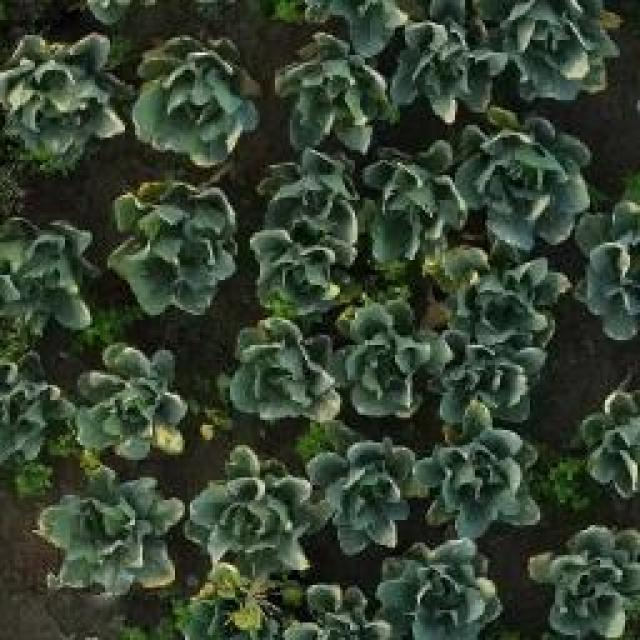cabbage: (30, 466, 184, 596), (457, 119, 590, 244), (114, 185, 238, 312), (420, 407, 542, 529), (130, 45, 255, 158), (73, 343, 192, 460), (193, 456, 310, 573), (303, 435, 422, 548), (527, 522, 640, 639), (5, 38, 121, 151), (224, 319, 344, 424), (335, 302, 446, 412), (452, 251, 563, 359), (496, 0, 614, 100), (0, 222, 96, 340), (275, 38, 381, 142), (390, 541, 498, 640), (390, 18, 496, 112), (248, 222, 346, 320), (256, 144, 365, 231), (368, 156, 458, 256), (580, 195, 640, 337), (440, 349, 544, 423), (280, 577, 388, 640), (0, 356, 67, 457), (582, 390, 640, 491)
